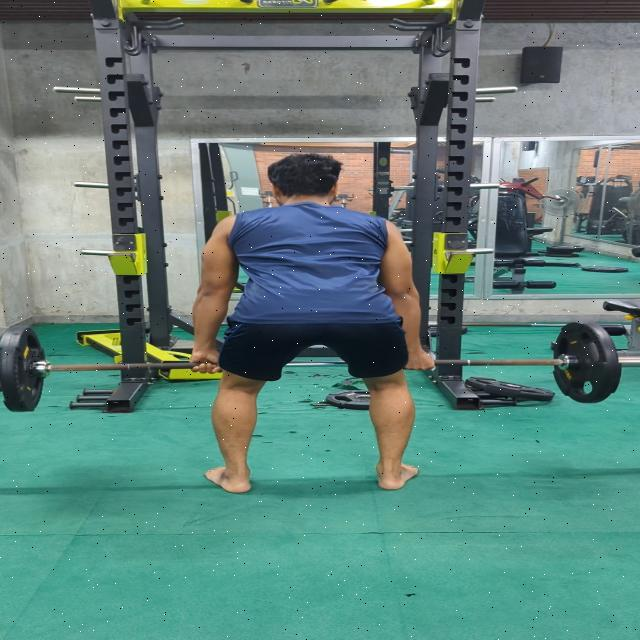Normal_Deadlifts: (182, 151, 439, 494)
